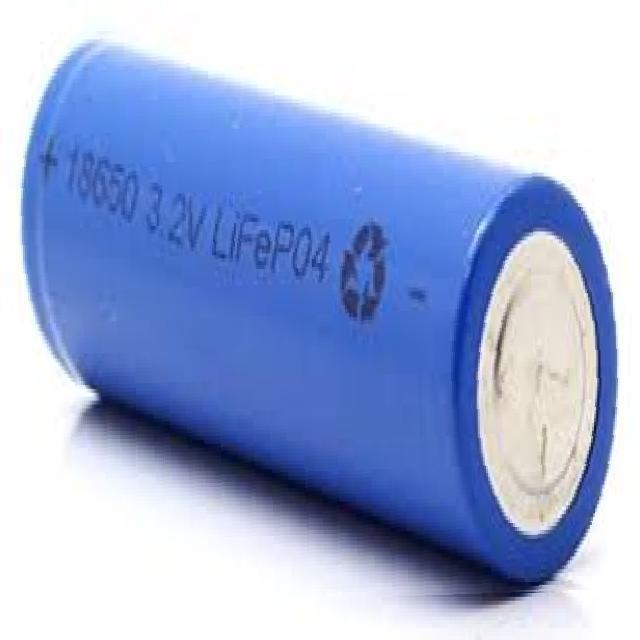Battery: (0, 20, 640, 593)
